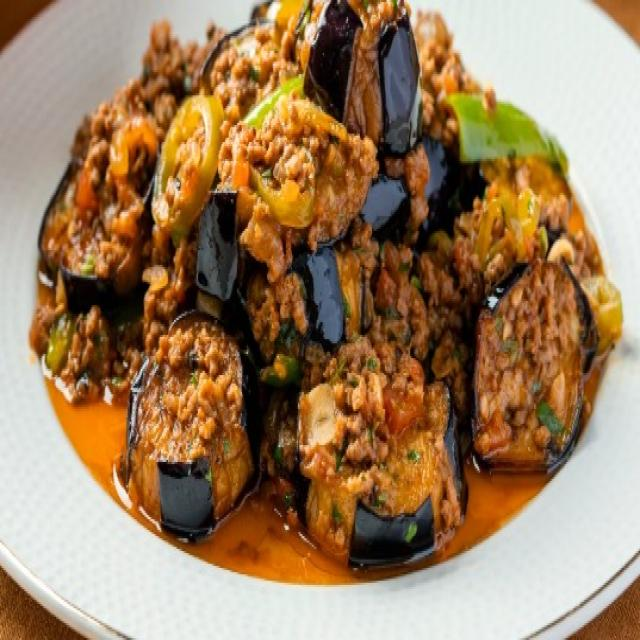ana_yemek: (29, 0, 622, 579)
